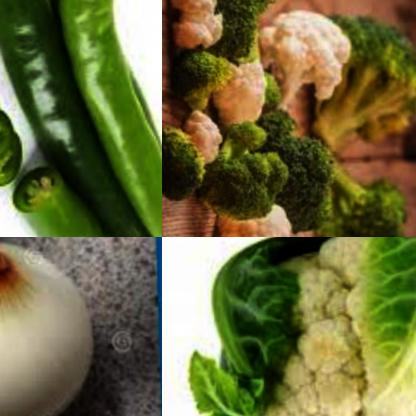broccoli: (311, 18, 416, 154), (202, 126, 289, 227), (262, 126, 340, 237), (319, 160, 412, 237), (207, 0, 292, 68), (165, 43, 239, 116), (162, 127, 214, 207)
cayliflower: (211, 237, 416, 416), (261, 6, 352, 122), (162, 0, 230, 56), (214, 63, 273, 127), (200, 198, 293, 237), (179, 107, 225, 171)
hot pepper: (0, 0, 162, 237), (60, 0, 162, 237), (4, 158, 132, 237), (0, 33, 37, 191)
onion: (0, 237, 101, 416)
